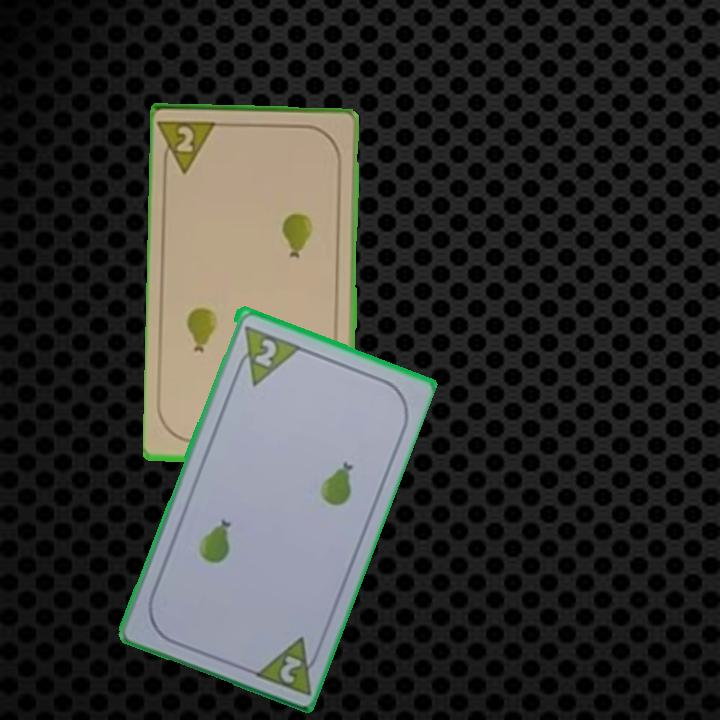2p: (250, 334, 280, 370), (275, 651, 304, 686), (174, 122, 197, 155)
